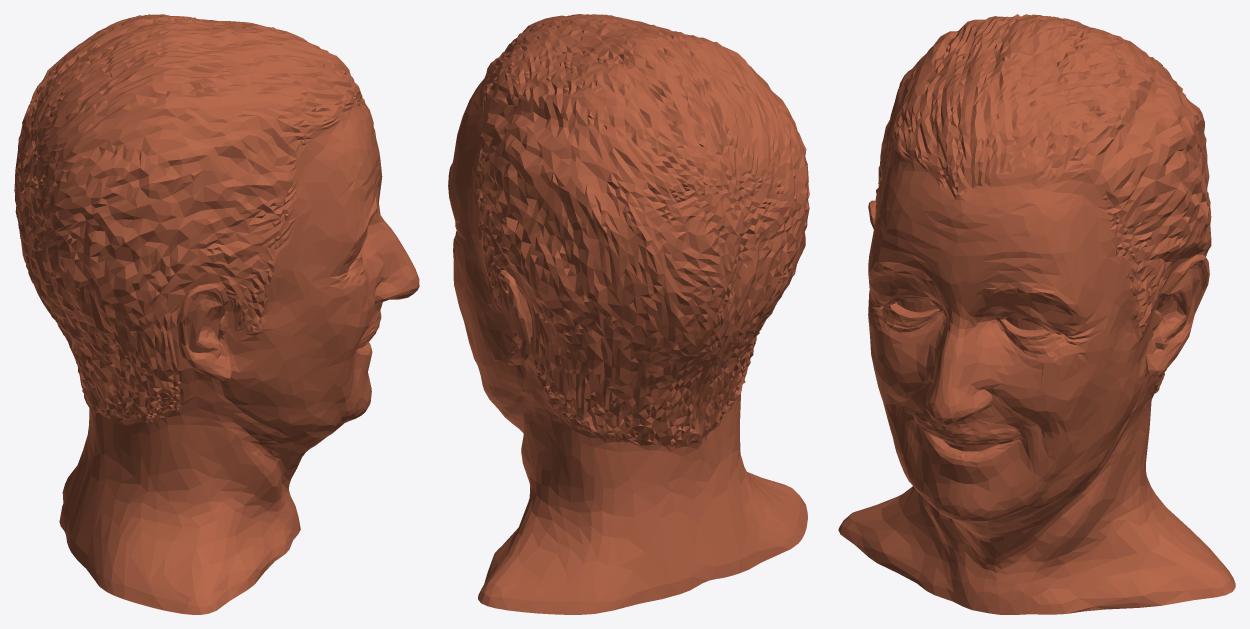
The model's file is WaltHead.glb.
3 views of the same model, side by side, from view 1: azimuth 30°, elevation 25°; view 2: azimuth 150°, elevation 25°; view 3: azimuth 270°, elevation 25° (orthographic). The views are drawn at different scales.
Bounding box in the file's own units: 45.3 × 62.91 × 42.4.
